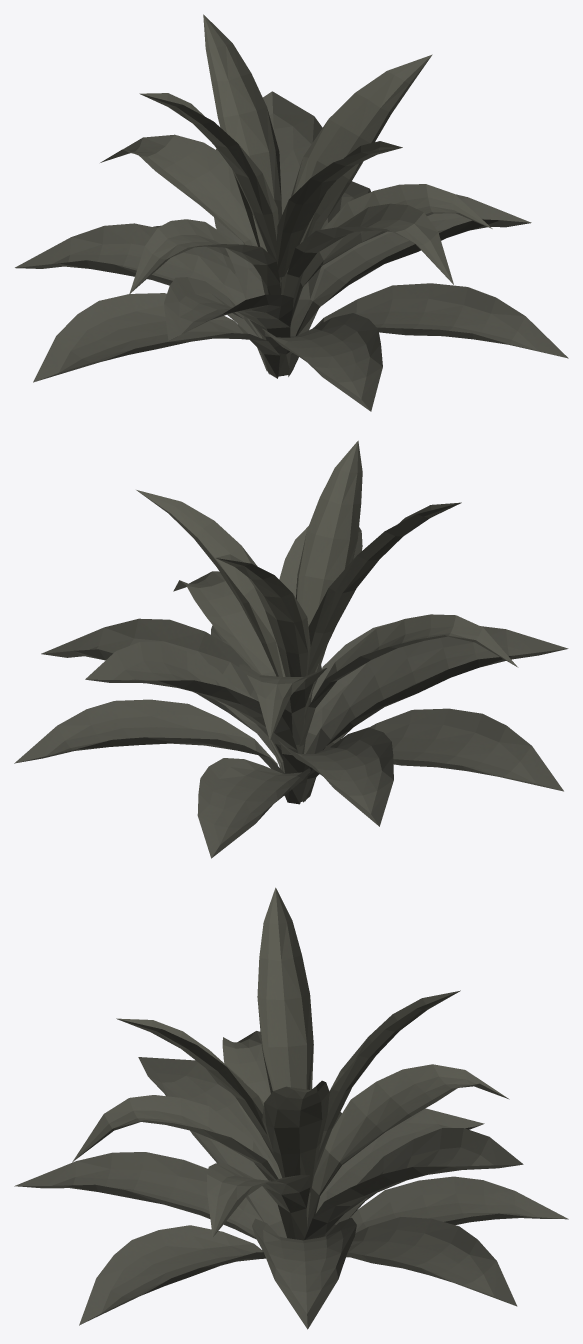
File: DesertAgave01.fbx
The picture shows the model from 3 angles, top to bottom: view 1: azimuth 30°, elevation 25°; view 2: azimuth 150°, elevation 25°; view 3: azimuth 270°, elevation 25°; orthographic projection.
Visible parts, largest first — view 1: SM_ENV_Nature_DesertAgave_01.mo; view 2: SM_ENV_Nature_DesertAgave_01.mo; view 3: SM_ENV_Nature_DesertAgave_01.mo.
Boxes of the visible parts, x1,y1,x2,y2 form: SM_ENV_Nature_DesertAgave_01.mo: [15, 14, 568, 411]; SM_ENV_Nature_DesertAgave_01.mo: [14, 440, 568, 858]; SM_ENV_Nature_DesertAgave_01.mo: [14, 887, 568, 1329].
Size of the model in its own units: 674 by 410 by 627.
Materials: 1 (1 with a texture image).
